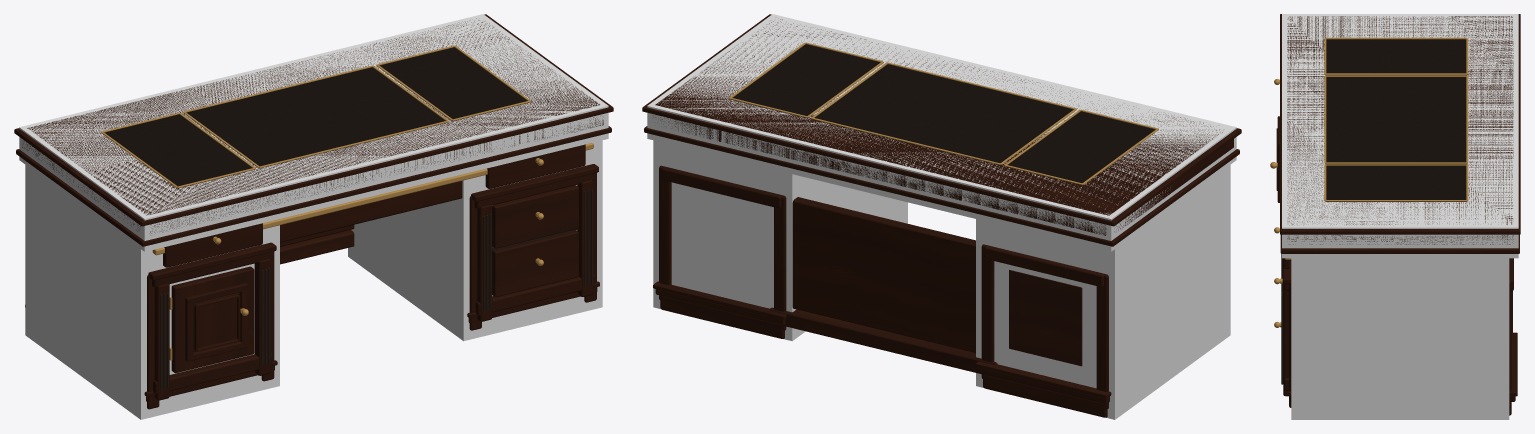
Rendered from desk_luxury.glb.
3 views of the same model, side by side, from view 1: azimuth 30°, elevation 25°; view 2: azimuth 150°, elevation 25°; view 3: azimuth 270°, elevation 25° (orthographic). The views are drawn at different scales.
Visible parts, largest first — view 1: COL_Desk_Luxury_Desktop, BATCH_Desktop_Desk_Luxury_Surface, COL_Desk_Luxury_LeftPedestal, BATCH_Desktop_Desk_Luxury_Leather, BATCH_Body_Desk_Luxury_Body, COL_Desk_Luxury_RightPedestal, BATCH_CabinetDoor_Left_Desk_Luxury_Body, BATCH_Drawer_Right_Bottom_Desk_Luxury_Body, BATCH_Drawer_Right_Middle_Desk_Luxury_Body, BATCH_Desktop_Desk_Luxury_RestrainedBrass, BATCH_Body_Desk_Luxury_InteriorShadow, BATCH_Drawer_Right_Top_Desk_Luxury_Body (+3 smaller); view 2: COL_Desk_Luxury_Desktop, BATCH_Desktop_Desk_Luxury_Surface, COL_Desk_Luxury_LeftPedestal, BATCH_ModestyPanel_Desk_Luxury_Body, BATCH_Desktop_Desk_Luxury_Leather, COL_Desk_Luxury_RightPedestal, BATCH_Body_Desk_Luxury_Body, BATCH_Body_Desk_Luxury_InteriorOak, BATCH_Desktop_Desk_Luxury_RestrainedBrass; view 3: COL_Desk_Luxury_RightPedestal, COL_Desk_Luxury_Desktop, BATCH_Desktop_Desk_Luxury_Leather, BATCH_Desktop_Desk_Luxury_Surface, BATCH_Desktop_Desk_Luxury_RestrainedBrass, BATCH_Body_Desk_Luxury_Body, BATCH_Body_Desk_Luxury_InteriorShadow, BATCH_CabinetDoor_Left_Desk_Luxury_Body.
Boxes of the visible parts, x1,y1,x2,y2 form: COL_Desk_Luxury_Desktop: [19, 14, 608, 251]; BATCH_Desktop_Desk_Luxury_Surface: [14, 14, 613, 246]; COL_Desk_Luxury_LeftPedestal: [25, 165, 279, 419]; BATCH_Desktop_Desk_Luxury_Leather: [104, 47, 528, 188]; BATCH_Body_Desk_Luxury_Body: [25, 164, 599, 409]; COL_Desk_Luxury_RightPedestal: [348, 140, 602, 341]; BATCH_CabinetDoor_Left_Desk_Luxury_Body: [171, 266, 254, 373]; BATCH_Drawer_Right_Bottom_Desk_Luxury_Body: [492, 230, 578, 297]; BATCH_Drawer_Right_Middle_Desk_Luxury_Body: [492, 185, 578, 248]; BATCH_Desktop_Desk_Luxury_RestrainedBrass: [101, 45, 530, 188]; BATCH_Body_Desk_Luxury_InteriorShadow: [160, 189, 592, 389]; BATCH_Drawer_Right_Top_Desk_Luxury_Body: [485, 144, 585, 188]; COL_Desk_Luxury_Desktop: [647, 14, 1236, 251]; BATCH_Desktop_Desk_Luxury_Surface: [642, 14, 1241, 246]; COL_Desk_Luxury_LeftPedestal: [976, 165, 1230, 419]; BATCH_ModestyPanel_Desk_Luxury_Body: [770, 197, 997, 377]; BATCH_Desktop_Desk_Luxury_Leather: [730, 44, 1155, 185]; COL_Desk_Luxury_RightPedestal: [653, 140, 907, 341]; BATCH_Body_Desk_Luxury_Body: [653, 165, 1111, 417]; BATCH_Body_Desk_Luxury_InteriorOak: [1009, 270, 1082, 366]; BATCH_Desktop_Desk_Luxury_RestrainedBrass: [729, 42, 1158, 184]; COL_Desk_Luxury_RightPedestal: [1291, 258, 1509, 419]; COL_Desk_Luxury_Desktop: [1282, 14, 1518, 258]; BATCH_Desktop_Desk_Luxury_Leather: [1325, 39, 1466, 201]; BATCH_Desktop_Desk_Luxury_Surface: [1280, 14, 1520, 253]; BATCH_Desktop_Desk_Luxury_RestrainedBrass: [1324, 37, 1468, 201]; BATCH_Body_Desk_Luxury_Body: [1282, 258, 1517, 415]; BATCH_Body_Desk_Luxury_InteriorShadow: [1281, 254, 1283, 384]; BATCH_CabinetDoor_Left_Desk_Luxury_Body: [1276, 116, 1279, 202].
Size of the model in its own units: 1.95 by 0.8168 by 0.9529.
Materials: 6 (4 with a texture image).
